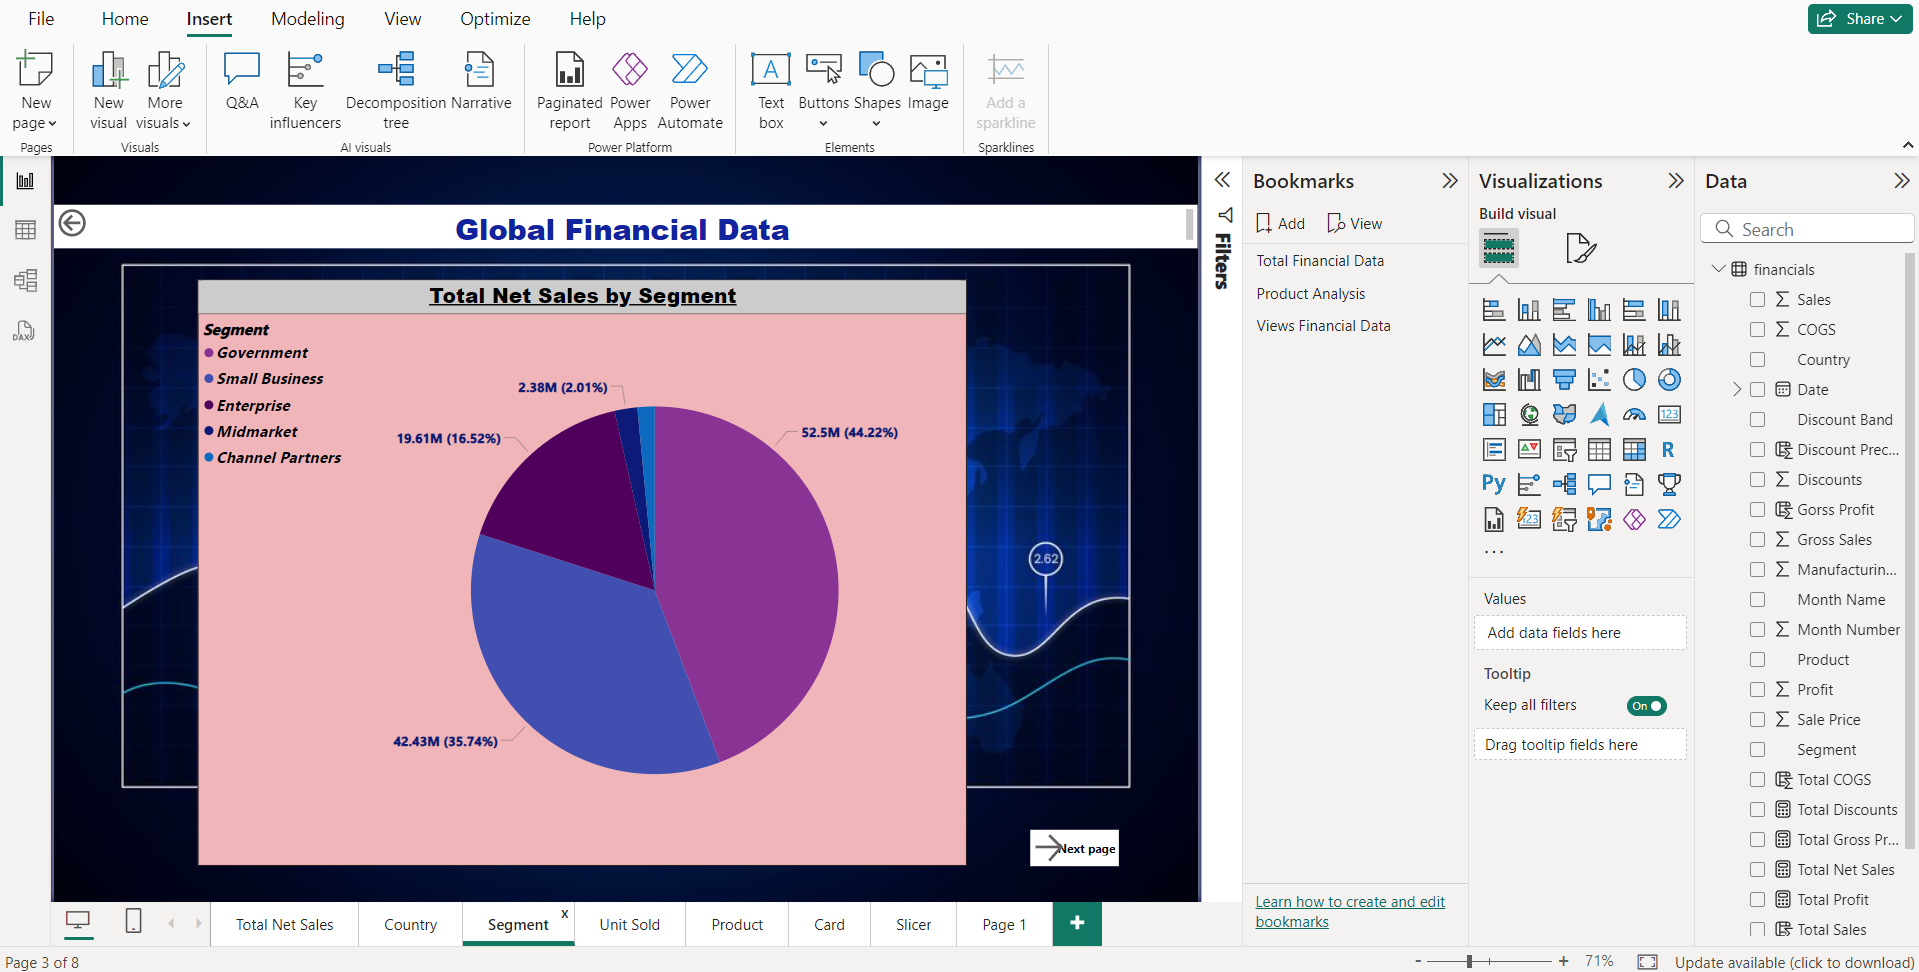

This screenshot's page, from the dashboard's own definition file:
{"tool":"powerbi","page":{"name":"Segment","canvas":[1280,835],"ordinal":2},"visuals":[{"type":"textbox","box":[0,54.6,1280.2,49],"z":1},{"type":"pieChart","fields":{"Category":["financials.Segment"],"Y":["financials.Total Net Sales"]},"box":[160.9,138.5,860.5,656.2],"z":2},{"type":"actionButton","box":[1092.7,754.1,99.3,40.6],"z":3},{"type":"actionButton","box":[0,54.6,99.3,40.6],"z":4}]}

Visuals, with their boxes on the page's 1280x835 design canvas (x1, y1, x2, y2). These are canvas units, not pixel positions in the 1919x972 screenshot, which may show the page scaled, cropped or inside an application window:
textbox: (left=0, top=55, right=1280, bottom=104)
pieChart - financials.Segment x financials.Total Net Sales: (left=161, top=138, right=1021, bottom=795)
actionButton: (left=1093, top=754, right=1192, bottom=795)
actionButton: (left=0, top=55, right=99, bottom=95)
